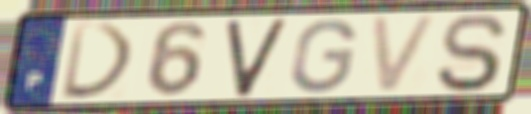6: (144, 19, 210, 100)
D: (58, 21, 140, 103)
G: (288, 16, 361, 96)
S: (432, 11, 511, 95)
V: (367, 12, 444, 96), (223, 15, 291, 99)
